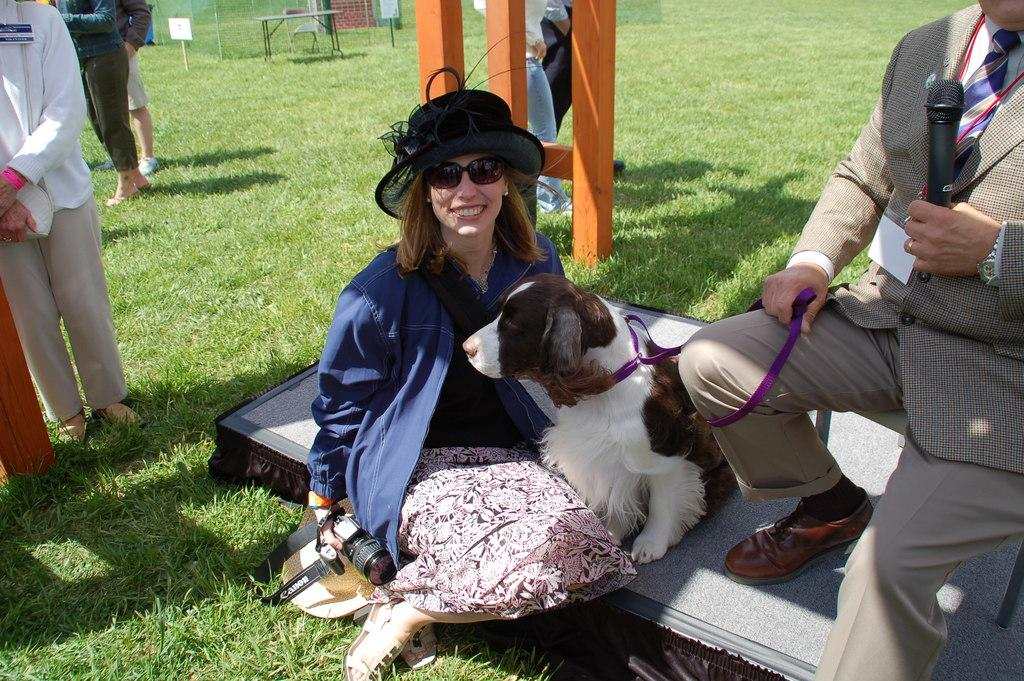Hat: (372, 27, 544, 226)
